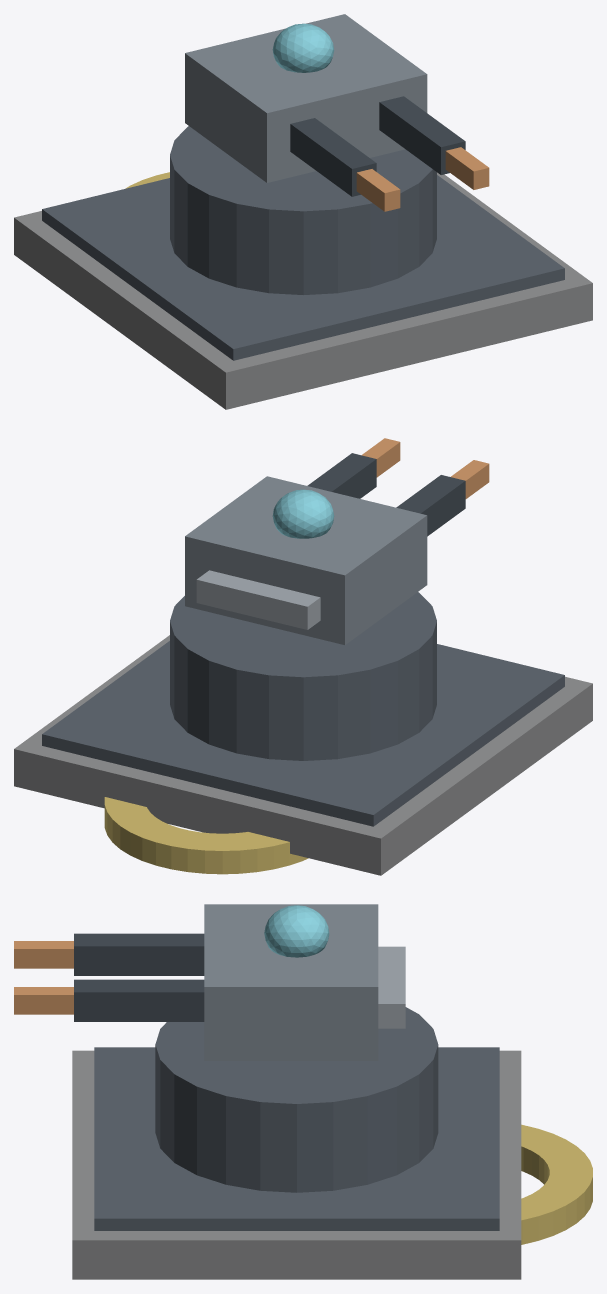
The model's file is human_turret.glb.
The picture shows the model from 3 angles, top to bottom: view 1: azimuth 30°, elevation 25°; view 2: azimuth 150°, elevation 25°; view 3: azimuth 270°, elevation 25°; orthographic projection. The views are drawn at different scales.
Visible parts, largest first — view 1: foundation_top, armored_base, foundation, turret_head, gun_barrel_1, gun_barrel_-1, targeting_sensor, muzzle_flash_1, muzzle_flash_-1; view 2: armored_base, foundation_top, foundation, turret_head, tracking_ring, rear_counterweight, targeting_sensor, gun_barrel_-1, gun_barrel_1, muzzle_flash_1, muzzle_flash_-1; view 3: armored_base, foundation_top, foundation, turret_head, tracking_ring, gun_barrel_-1, gun_barrel_1, targeting_sensor, rear_counterweight, muzzle_flash_-1, muzzle_flash_1.
Part boxes in pixels (x1,y1,x2,y2): foundation_top: [42, 175, 564, 360]; armored_base: [170, 126, 436, 294]; foundation: [14, 172, 592, 409]; turret_head: [185, 14, 427, 182]; gun_barrel_1: [379, 96, 465, 174]; gun_barrel_-1: [290, 118, 376, 196]; targeting_sensor: [272, 23, 334, 72]; muzzle_flash_1: [445, 147, 489, 189]; muzzle_flash_-1: [356, 169, 400, 211]; armored_base: [170, 592, 436, 760]; foundation_top: [42, 641, 564, 826]; foundation: [14, 635, 592, 875]; turret_head: [185, 476, 427, 644]; tracking_ring: [104, 797, 308, 874]; rear_counterweight: [196, 570, 320, 629]; targeting_sensor: [272, 489, 334, 538]; gun_barrel_-1: [396, 475, 465, 536]; gun_barrel_1: [307, 453, 376, 498]; muzzle_flash_1: [362, 438, 400, 477]; muzzle_flash_-1: [451, 460, 489, 498]; armored_base: [155, 1007, 438, 1192]; foundation_top: [94, 1047, 499, 1230]; foundation: [72, 1050, 521, 1279]; turret_head: [204, 904, 378, 1060]; tracking_ring: [521, 1124, 592, 1244]; gun_barrel_-1: [74, 933, 204, 975]; gun_barrel_1: [74, 979, 204, 1021]; targeting_sensor: [264, 905, 329, 957]; rear_counterweight: [378, 946, 405, 1028]; muzzle_flash_-1: [14, 941, 73, 968]; muzzle_flash_1: [14, 987, 73, 1014].
Size of the model in its own units: 1.65 by 1.17 by 2.13.
